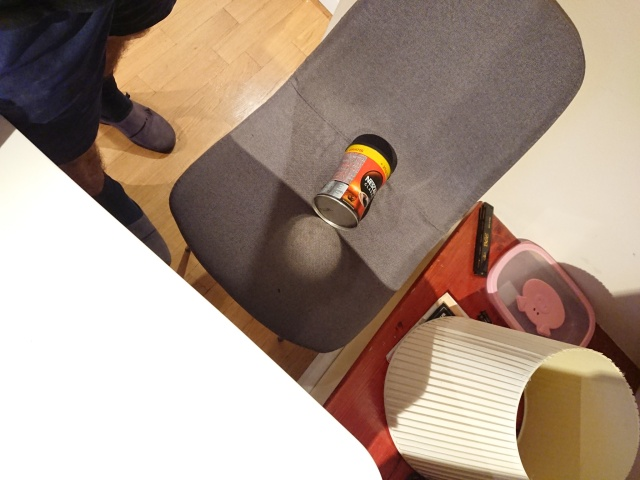Nescafe Classic 225g: (309, 139, 397, 234)
